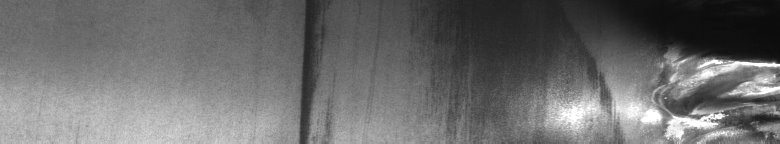ke: (602, 44, 776, 136)
